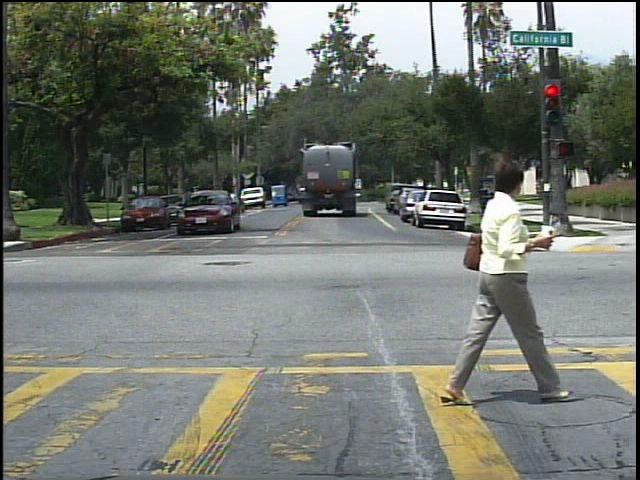person: (443, 138, 563, 410), (512, 180, 526, 199)
